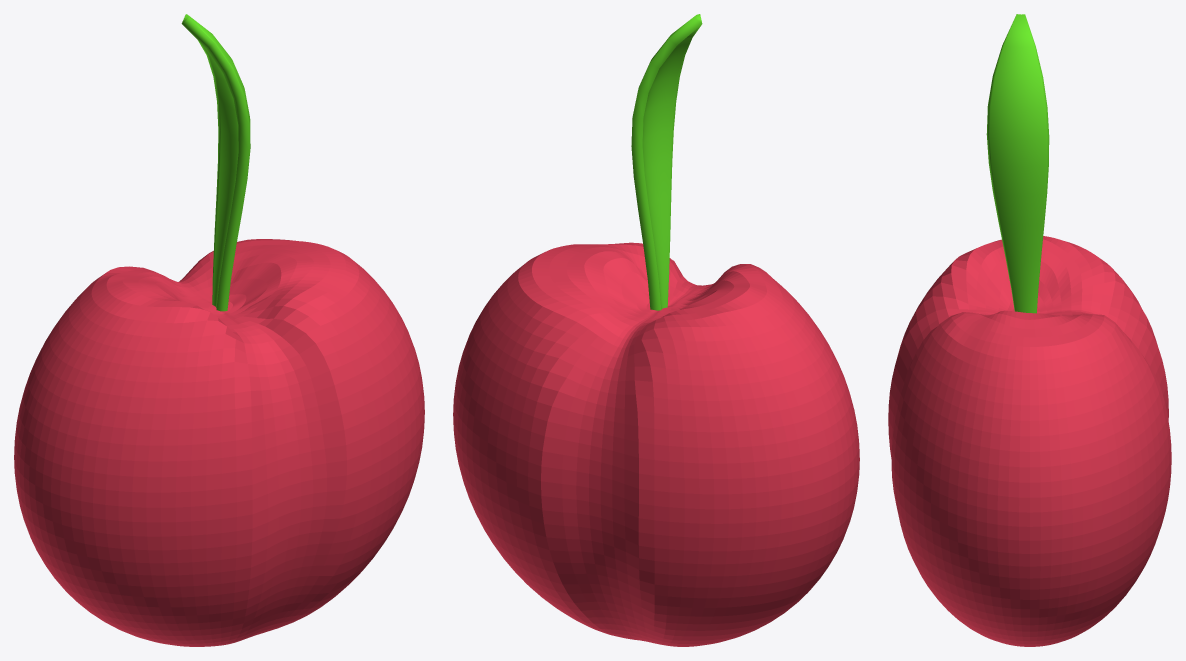
File: Cherry.fbx
3 views of the same model, side by side, from view 1: azimuth 30°, elevation 25°; view 2: azimuth 150°, elevation 25°; view 3: azimuth 270°, elevation 25° (orthographic). The views are drawn at different scales.
Parts seen in each view (by area): view 1: Sphere.001; view 2: Sphere.001; view 3: Sphere.001.
Boxes of the visible parts, x1,y1,x2,y2 form: Sphere.001: (14, 14, 424, 646); Sphere.001: (453, 14, 859, 646); Sphere.001: (888, 14, 1171, 646).
Size of the model in its own units: 200 by 316 by 136.
